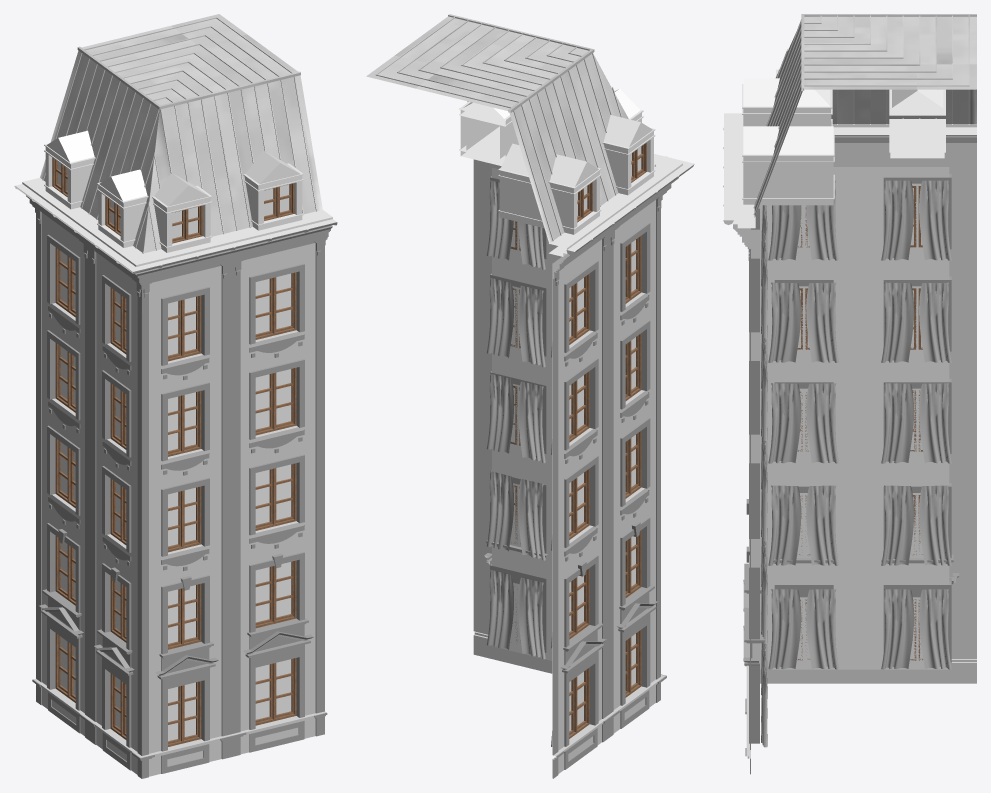
Rendered from Facade_Top_Corner.fbx.
The picture shows the model from 3 angles, left to right: view 1: azimuth 30°, elevation 25°; view 2: azimuth 150°, elevation 25°; view 3: azimuth 270°, elevation 25°; orthographic projection. The views are drawn at different scales.
Visible parts, largest first — view 1: Facade_Top_Corner; view 2: Facade_Top_Corner; view 3: Facade_Top_Corner.
Part boxes in pixels (x1,y1,x2,y2): Facade_Top_Corner: (14,14,337,778); Facade_Top_Corner: (366,14,694,778); Facade_Top_Corner: (723,14,976,774).
Size of the model in its own units: 6.23 by 18.72 by 6.23.
